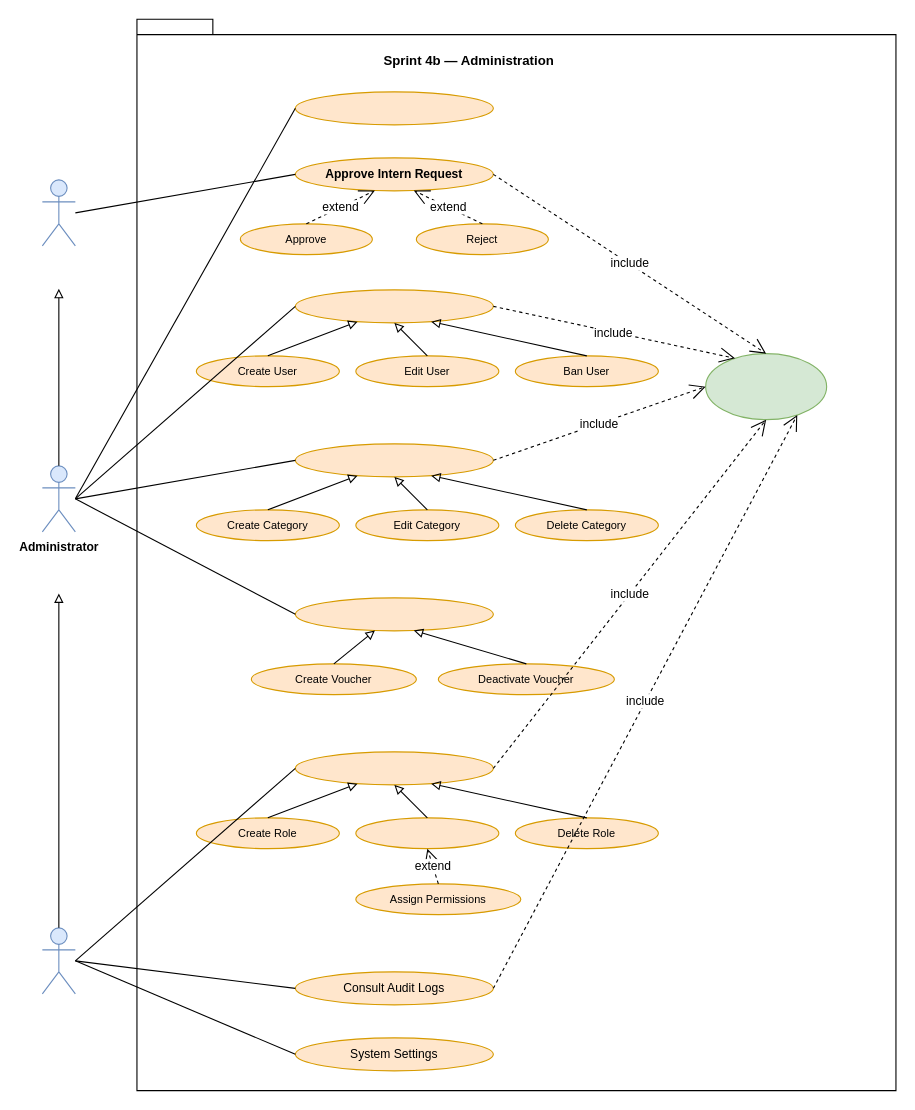
This 915x1110 diagram has some shape labels left out. Here are the shapes that lost their labels. From the top down, the centre of each, then its label:
the point at 393,108: Moderate Assets
the point at 58,212: Employee
the point at 393,306: Manage Users
the point at 766,386: Authenticate
the point at 393,460: Manage Categories
the point at 393,614: Manage Vouchers
the point at 393,768: Configure Roles
the point at 427,833: Edit Role
the point at 58,960: Super Admin
